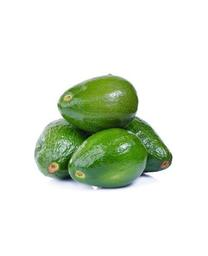avocado: (69, 128, 148, 189), (57, 75, 138, 131), (106, 115, 174, 178), (35, 117, 89, 179)
